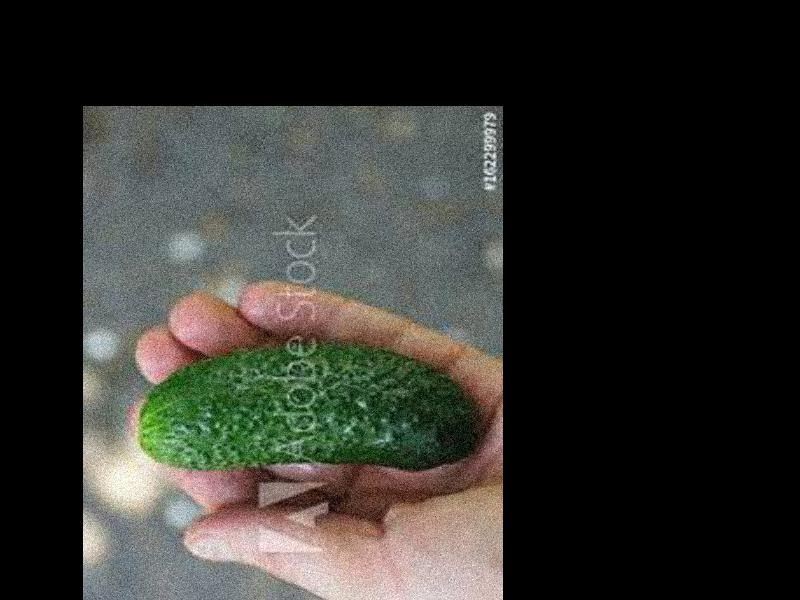Cucumber: (140, 339, 478, 470)
